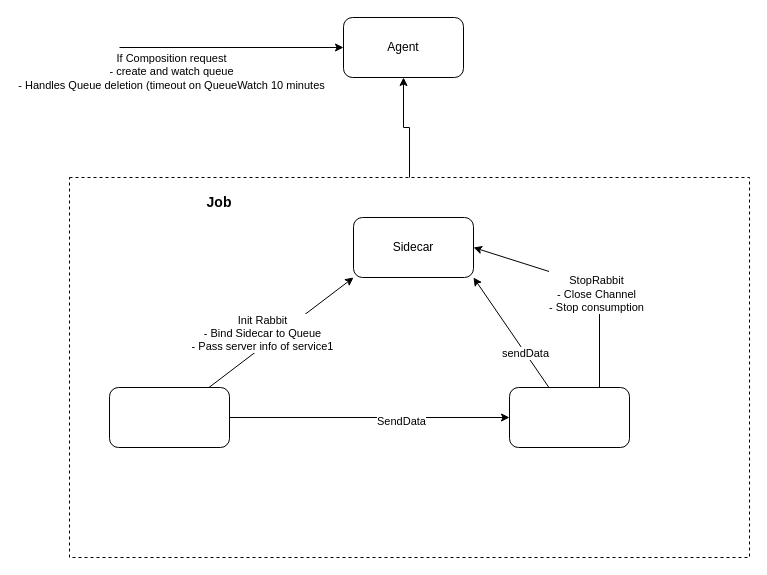
Some shapes in this 767 by 575 pixel diagram are drawn without their labels. Here are the shapes that lost their labels. From the top down, the box of each, then its label:
(108, 386, 230, 448): Service1
(508, 386, 630, 448): Service2
